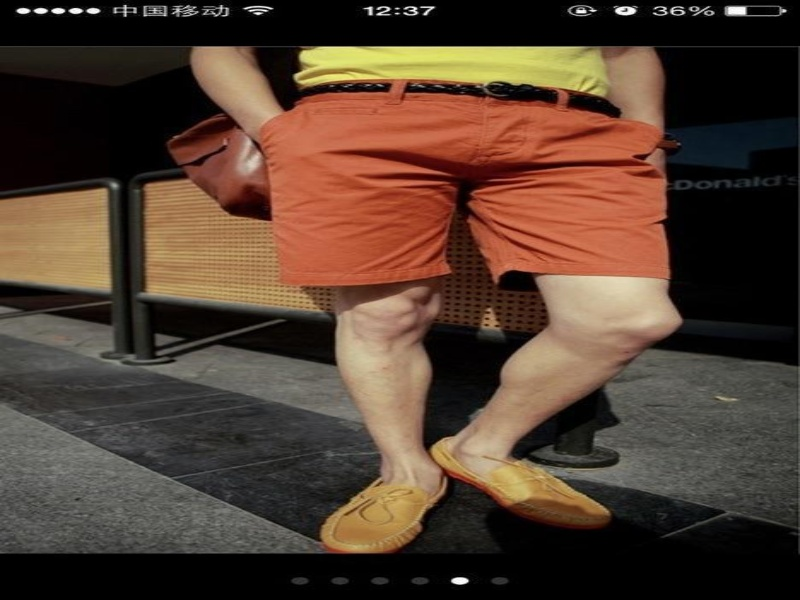short_sleeved_shirt: (285, 46, 619, 112)
shorts: (258, 74, 687, 295)
